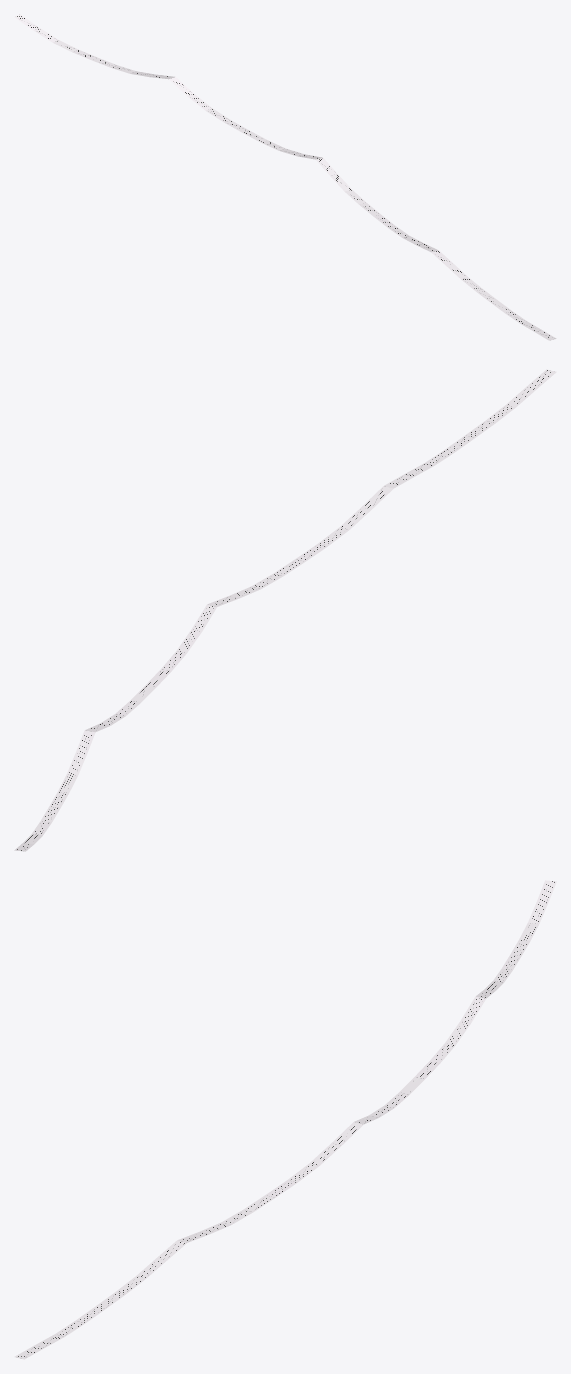
Rendered from wires_18_sfs.obj.
3 renders of one model, top to bottom at view 1: azimuth 30°, elevation 25°; view 2: azimuth 150°, elevation 25°; view 3: azimuth 330°, elevation 25°, orthographic. The views are drawn at different scales.
Visible parts, largest first — view 1: wires_18_SFS; view 2: wires_18_SFS; view 3: wires_18_SFS.
Boxes of the visible parts, x1,y1,x2,y2 form: wires_18_SFS: (14,14,556,340); wires_18_SFS: (14,369,556,851); wires_18_SFS: (14,880,556,1359).
Bounding box in the file's own units: 28.92 × 4.22 × 270.
Materials: 1 (1 with a texture image).
